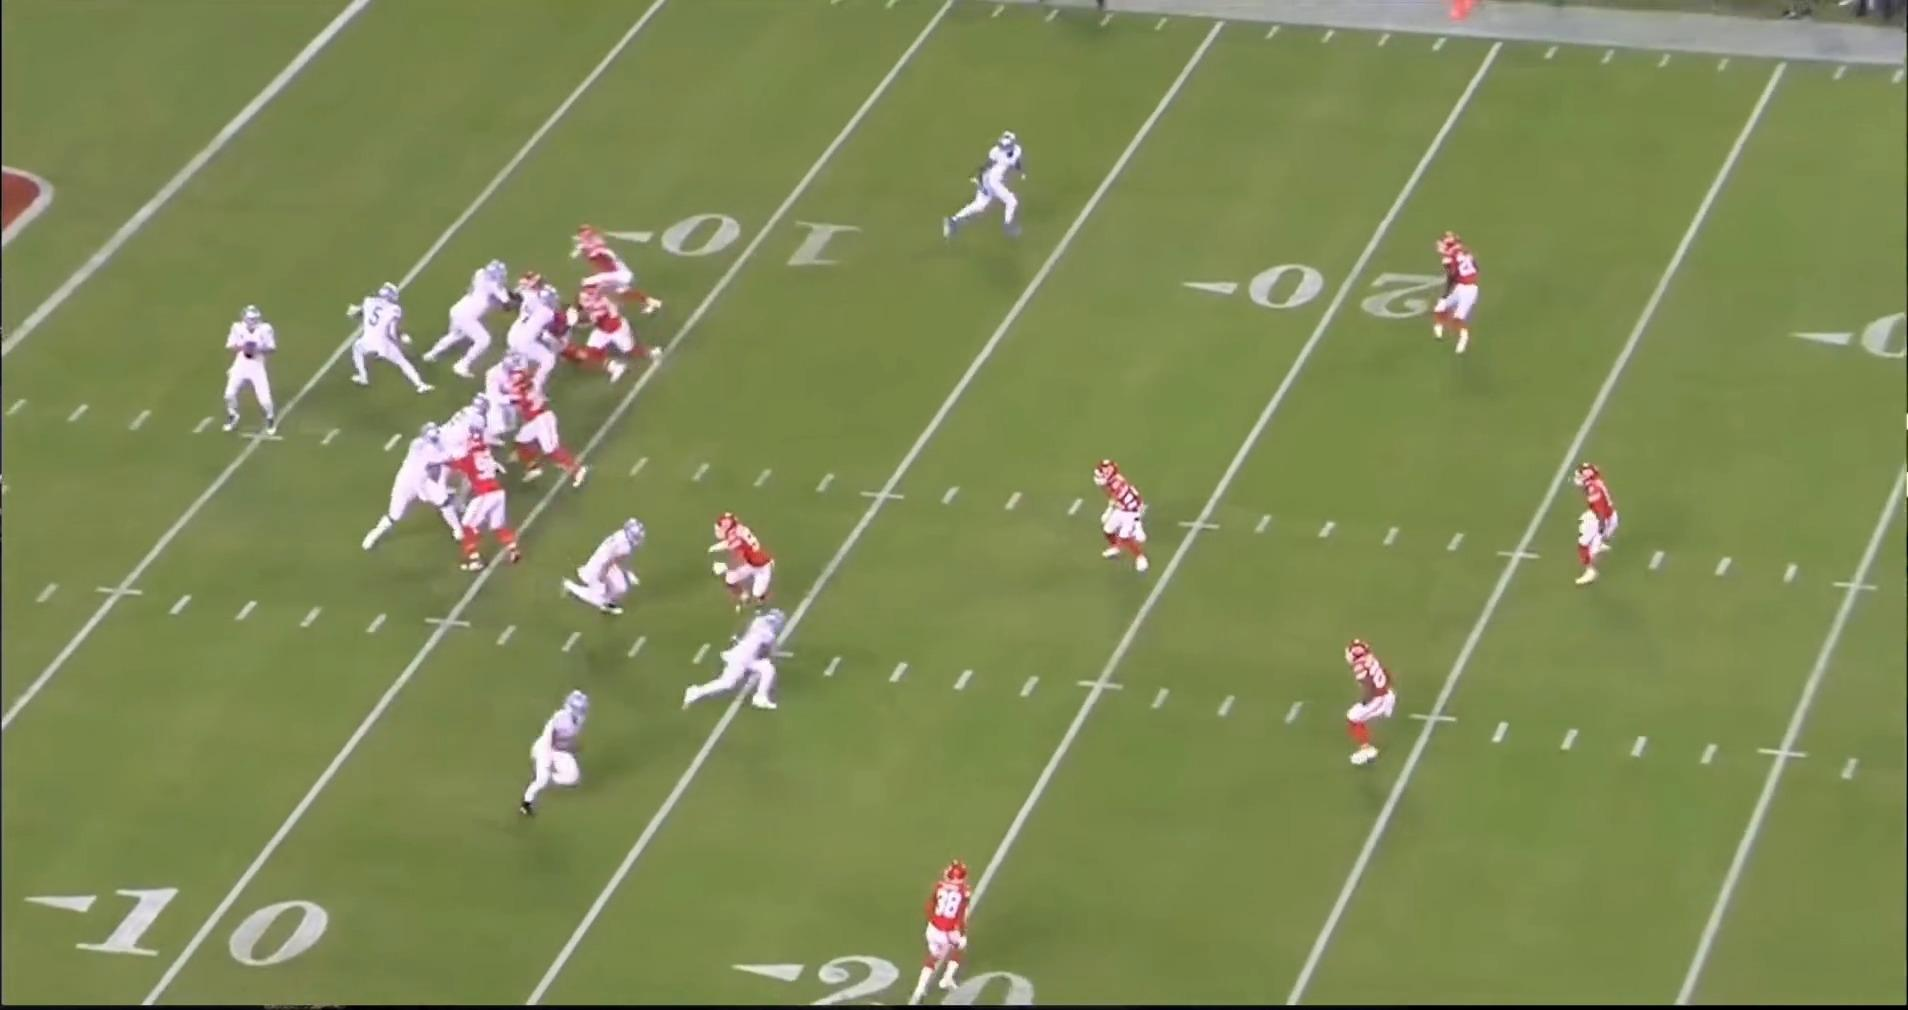player: (684, 605, 801, 720), (514, 685, 604, 823), (419, 259, 517, 384), (368, 422, 463, 550), (948, 133, 1040, 250), (562, 515, 655, 620), (453, 443, 528, 573), (346, 279, 430, 393), (216, 304, 284, 443), (575, 285, 668, 383), (911, 860, 978, 996), (569, 225, 664, 318), (514, 382, 596, 487), (1331, 639, 1395, 771), (707, 511, 779, 619), (1565, 462, 1626, 588), (492, 284, 567, 386), (1088, 460, 1155, 574), (1430, 233, 1488, 353), (515, 272, 586, 362), (439, 392, 493, 490), (479, 349, 529, 441)
